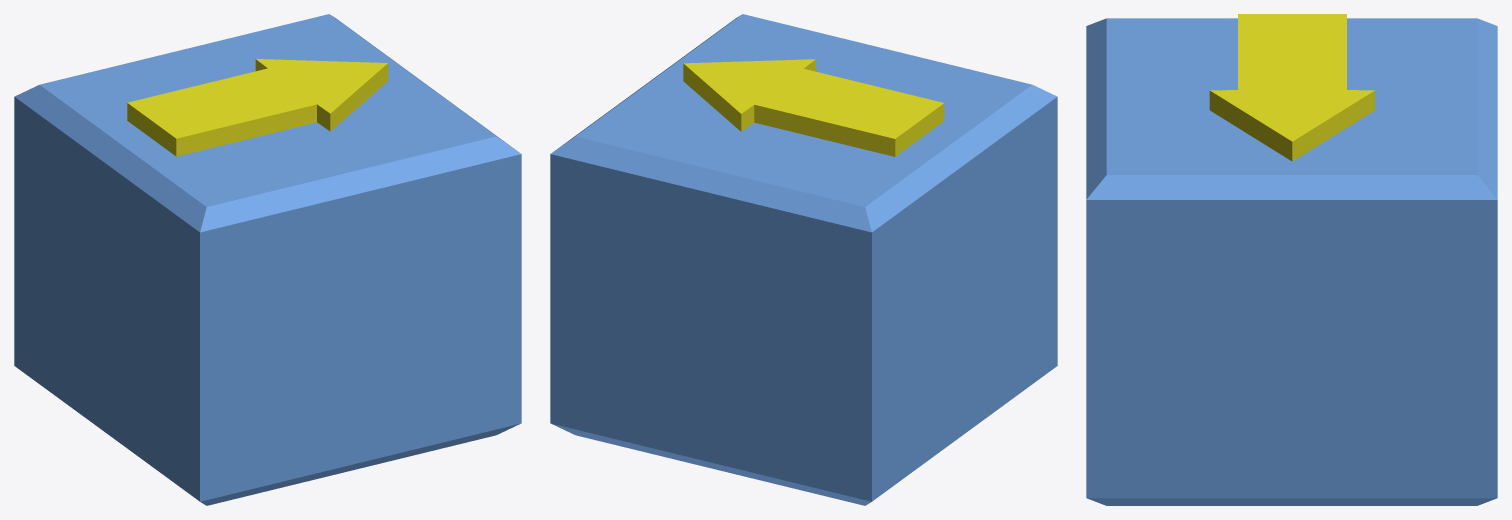
File: DirectionChangerBox.fbx
3 views of the same model, side by side, from view 1: azimuth 30°, elevation 25°; view 2: azimuth 150°, elevation 25°; view 3: azimuth 270°, elevation 25° (orthographic). The views are drawn at different scales.
Parts seen in each view (by area): view 1: Cube, Cube.001; view 2: Cube, Cube.001; view 3: Cube, Cube.001.
Boxes of the visible parts, x1=… form: Cube: x1=14, y1=14, x2=521, y2=505; Cube.001: x1=127, y1=59, x2=388, y2=156; Cube: x1=550, y1=14, x2=1057, y2=505; Cube.001: x1=683, y1=59, x2=944, y2=156; Cube: x1=1086, y1=18, x2=1497, y2=505; Cube.001: x1=1209, y1=14, x2=1375, y2=161.
Size of the model in its own units: 100 by 94.16 by 100.
